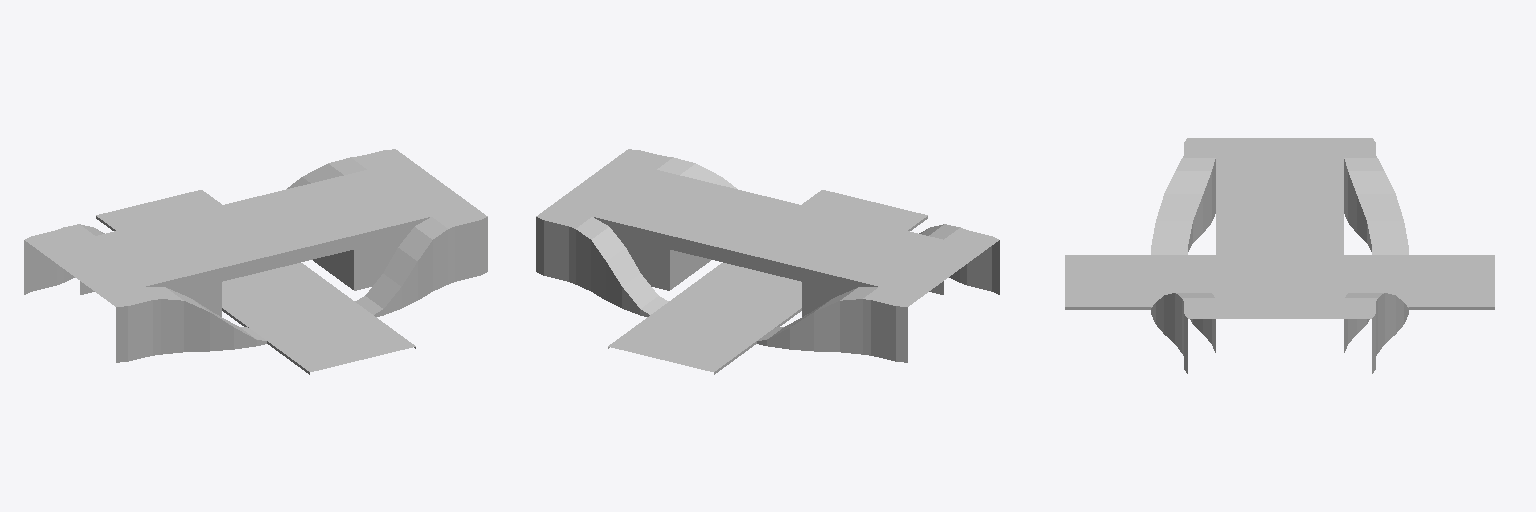
The model's file is inter3232.obj.
The picture shows the model from 3 angles: view 1: azimuth 30°, elevation 25°; view 2: azimuth 150°, elevation 25°; view 3: azimuth 270°, elevation 25°; orthographic projection.
Visible parts, largest first — view 1: 3232_intersection_Cube.015; view 2: 3232_intersection_Cube.015; view 3: 3232_intersection_Cube.015.
Boxes of the visible parts, x1=… form: 3232_intersection_Cube.015: x1=24, y1=149, x2=487, y2=374; 3232_intersection_Cube.015: x1=536, y1=149, x2=999, y2=374; 3232_intersection_Cube.015: x1=1065, y1=138, x2=1494, y2=373.
Size of the model in its own units: 14 by 2 by 14.